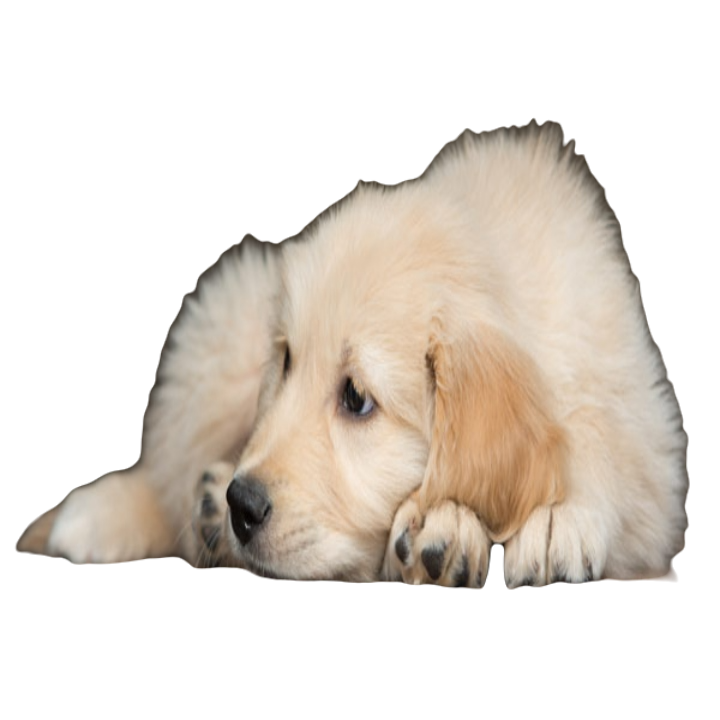Dog: (16, 121, 692, 584)
